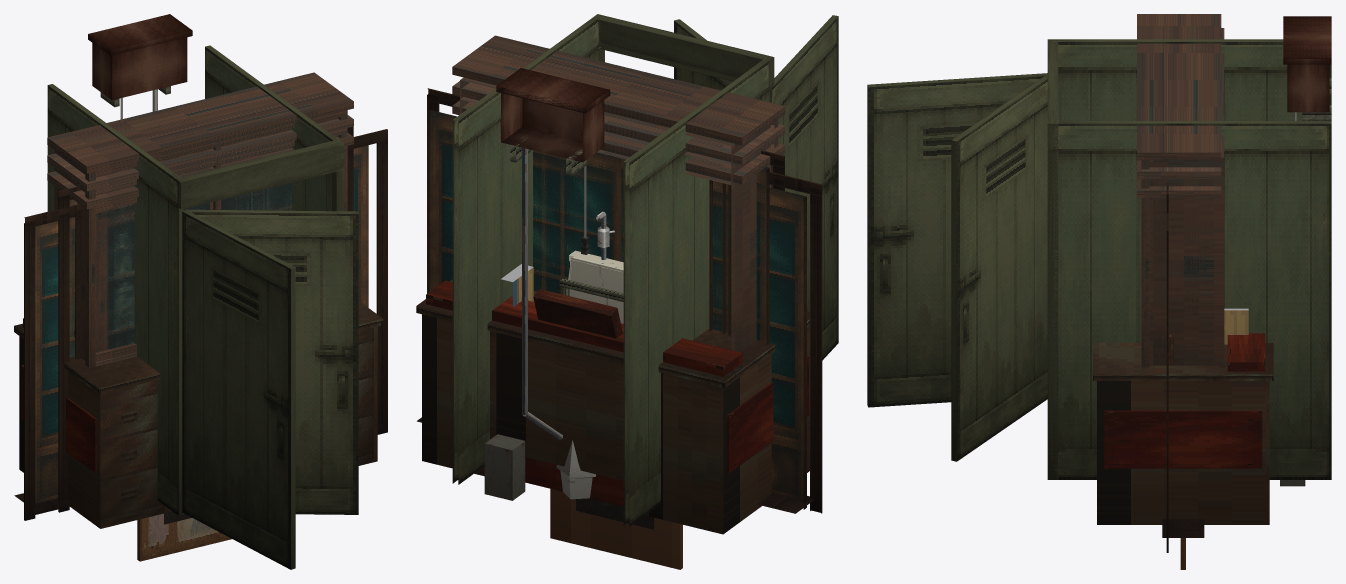
The model's file is props_1f_b.glb.
3 renders of one model, left to right at view 1: azimuth 30°, elevation 25°; view 2: azimuth 150°, elevation 25°; view 3: azimuth 270°, elevation 25°, orthographic. The views are drawn at different scales.
Parts seen in each view (by area): view 1: prop_toilet_stall-1, prop_toilet_stall-3, prop_shelf_lab-1, prop_sash-20-16-1, prop_principal_desk, prop_shelf_lab-2, prop_shelf_lab-3, prop_sash-16-16-0, prop_toilet_stall-1-end, prop_sash-16-17-1, prop_notice_board-3, prop_sofa (+1 smaller); view 2: prop_toilet_stall-1, prop_principal_desk, prop_sash-20-16-1, prop_toilet_stall-1-end, prop_shelf_lab-1, prop_toilet_stall-3, prop_sash-12-16-0, prop_sofa, prop_sash-16-17-1, prop_shelf_lab-2, prop_notice_board-3, prop_sash-16-16-0 (+11 smaller); view 3: prop_toilet_stall-1-end, prop_toilet_stall-1, prop_toilet_stall-3, prop_shelf_lab-1, prop_principal_desk, prop_sofa, prop_shelf_lab-2, prop_shelf_lab-3, prop_sash-20-16-1, prop_staffdesk-1.
Part boxes in pixels (left/top/right/bottom): prop_toilet_stall-1: left=47, top=14, right=358, bottom=515; prop_toilet_stall-3: left=182, top=211, right=295, bottom=569; prop_shelf_lab-1: left=47, top=72, right=353, bottom=367; prop_sash-20-16-1: left=14, top=129, right=387, bottom=520; prop_principal_desk: left=14, top=301, right=383, bottom=528; prop_shelf_lab-2: left=47, top=133, right=353, bottom=367; prop_shelf_lab-3: left=47, top=115, right=353, bottom=366; prop_sash-16-16-0: left=58, top=148, right=353, bottom=512; prop_toilet_stall-1-end: left=205, top=45, right=338, bottom=211; prop_sash-16-17-1: left=58, top=126, right=353, bottom=511; prop_notice_board-3: left=137, top=513, right=231, bottom=561; prop_sofa: left=21, top=318, right=96, bottom=472; prop_toilet_stall-1: left=484, top=14, right=774, bottom=526; prop_principal_desk: left=416, top=279, right=809, bottom=534; prop_sash-20-16-1: left=417, top=88, right=822, bottom=513; prop_toilet_stall-1-end: left=452, top=16, right=600, bottom=484; prop_shelf_lab-1: left=452, top=35, right=785, bottom=351; prop_toilet_stall-3: left=771, top=15, right=838, bottom=360; prop_sash-12-16-0: left=533, top=150, right=731, bottom=335; prop_sofa: left=426, top=280, right=809, bottom=506; prop_sash-16-17-1: left=533, top=150, right=784, bottom=343; prop_shelf_lab-2: left=452, top=100, right=785, bottom=351; prop_notice_board-3: left=550, top=488, right=682, bottom=569; prop_sash-16-16-0: left=533, top=151, right=784, bottom=504; prop_toilet_stall-1-end: left=1053, top=121, right=1331, bottom=479; prop_toilet_stall-1: left=951, top=16, right=1331, bottom=486; prop_toilet_stall-3: left=867, top=73, right=1047, bottom=407; prop_shelf_lab-1: left=1137, top=14, right=1224, bottom=367; prop_principal_desk: left=1093, top=343, right=1273, bottom=524; prop_sofa: left=1104, top=333, right=1265, bottom=468; prop_shelf_lab-2: left=1137, top=179, right=1224, bottom=367; prop_shelf_lab-3: left=1137, top=160, right=1224, bottom=365; prop_sash-20-16-1: left=1162, top=213, right=1204, bottom=552; prop_staffdesk-1: left=1224, top=308, right=1248, bottom=344.
Bounding box in the file's own units: 2.12 × 2.63 × 2.21.
80 materials, 80 textured.
